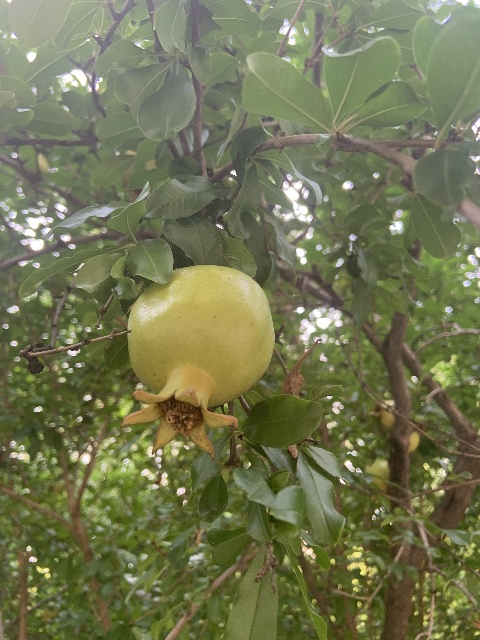mid-growth: (120, 264, 274, 459)
